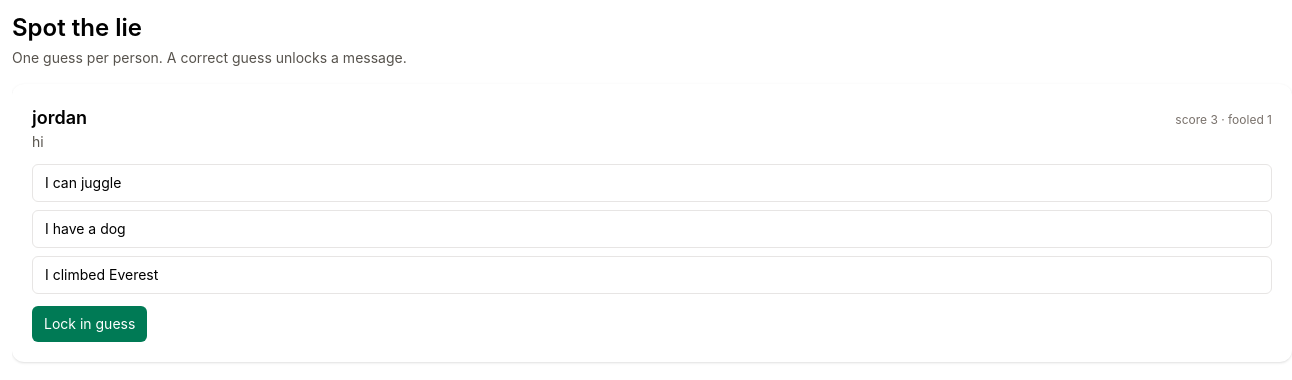
it: flat browse renders profiles and locks a guess only after Lock in guess
Expected: the heading "jordan" is shown, [32, 104, 87, 132]
Click the button "I have a dog" at [85, 228], box [32, 210, 1272, 248]
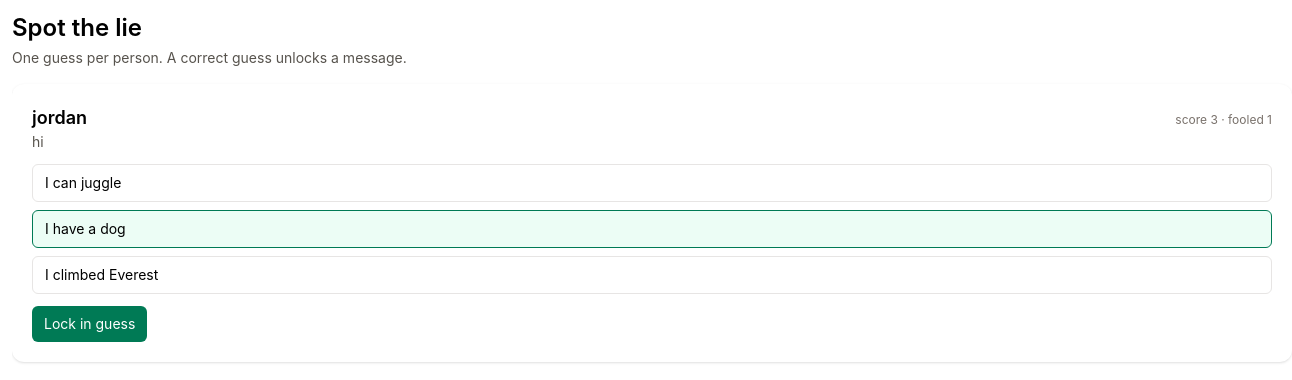
Click the button "Lock in guess" at [90, 324], box [32, 306, 147, 342]
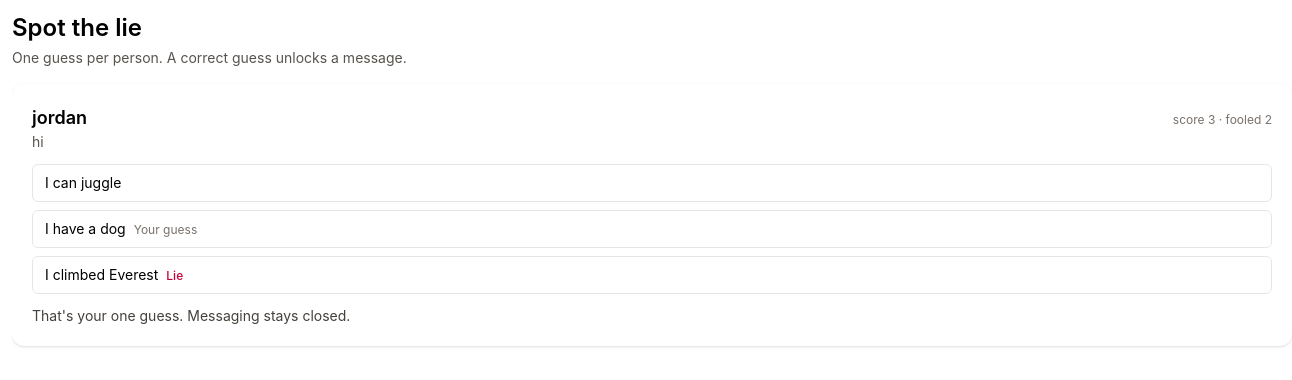
Result: the text "That's your one guess. Messaging stays closed." is shown at [32, 307, 350, 324]
Result: the text "Lie" is shown at [166, 268, 183, 283]
Result: the text "Your guess" is shown at [134, 222, 197, 237]
